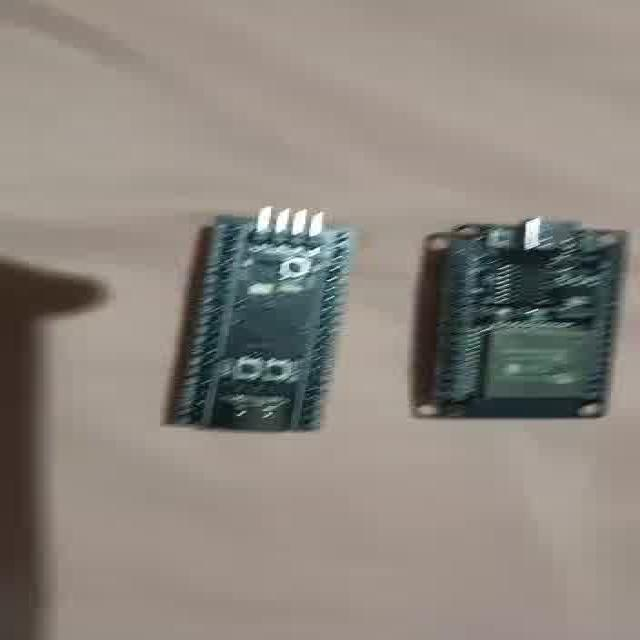ESP32: (434, 218, 626, 418)
STM32: (182, 208, 352, 431)
